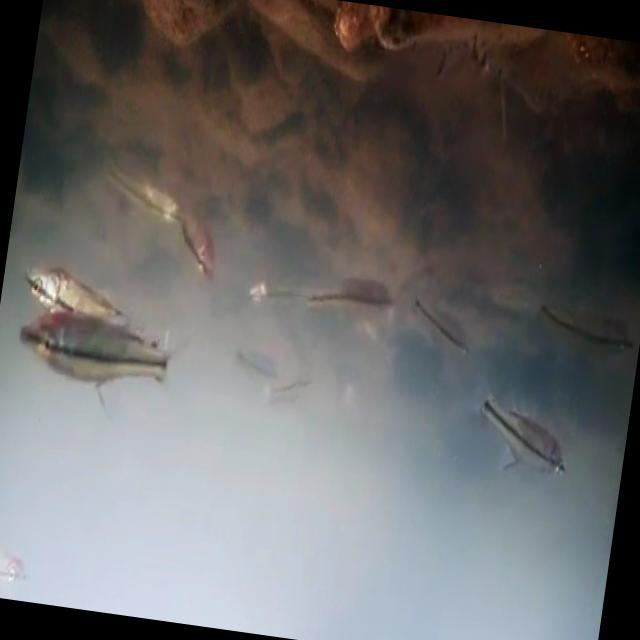Cakil Baligi: (7, 302, 192, 418), (462, 385, 577, 484), (398, 285, 484, 367), (164, 202, 228, 282)
